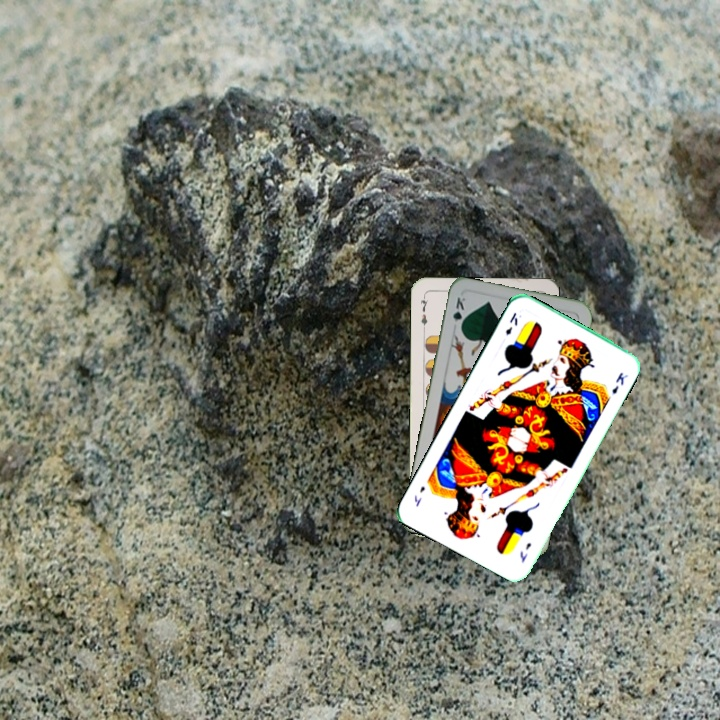E7: (416, 292, 430, 332)
EK: (501, 308, 520, 338), (516, 538, 534, 565)
GK: (448, 293, 468, 333)
